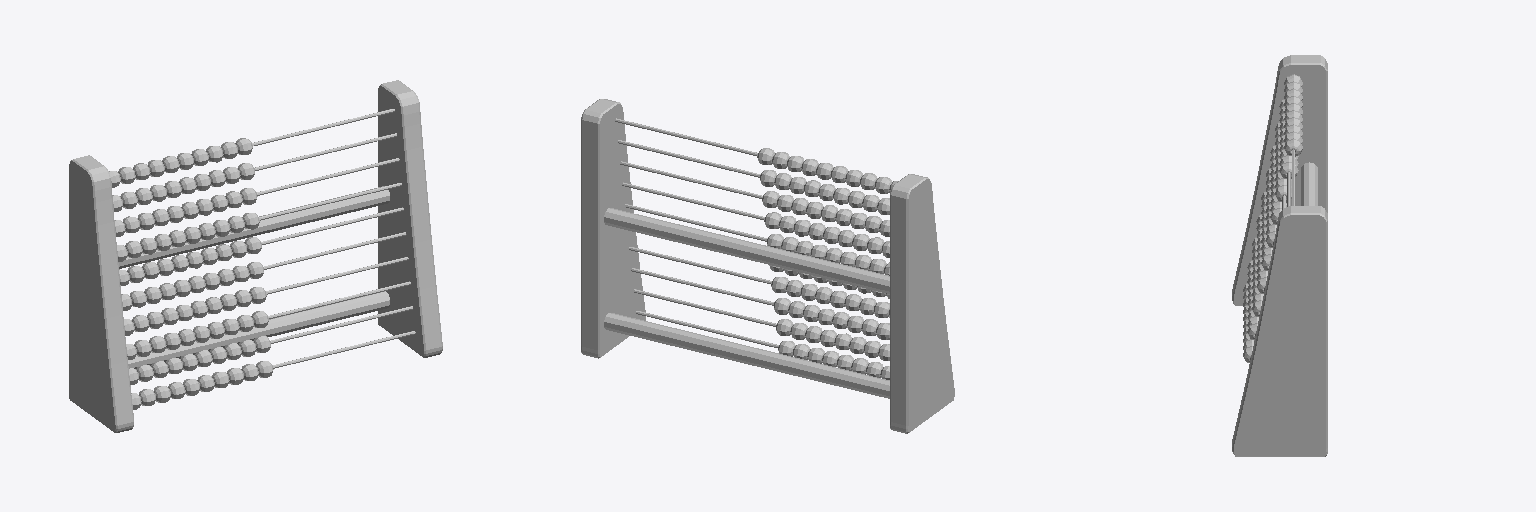
File: Abacus.obj
The picture shows the model from 3 angles: view 1: azimuth 30°, elevation 25°; view 2: azimuth 150°, elevation 25°; view 3: azimuth 270°, elevation 25°; orthographic projection.
Parts seen in each view (by area): view 1: Abacus_grp L_side_geo, Abacus_grp R_side_geo, Abacus_grp Wood_1_geo, Abacus_grp Wood_2_geo, Abacus_grp Line_3_geo Row_3_grp, Abacus_grp Line_4_geo Row_4_grp, Abacus_grp Line_2_geo Row_2_grp, Abacus_grp Line_6_geo Row_6_grp, Abacus_grp Line_1_geo, Abacus_grp Line_8_geo Row_8_grp, Abacus_grp Line_10_geo Row_10_grp, Abacus_grp Line_5_geo Row_5_grp (+2 smaller); view 2: Abacus_grp L_side_geo, Abacus_grp R_side_geo, Abacus_grp Wood_2_geo, Abacus_grp Wood_1_geo, Abacus_grp Line_8_geo Row_8_grp, Abacus_grp Line_1_geo, Abacus_grp Line_4_geo Row_7_grp, Abacus_grp Line_9_geo Row_9_grp, Abacus_grp Line_2_geo Row_2_grp, Abacus_grp Line_3_geo Row_3_grp, Abacus_grp Line_4_geo Row_4_grp, Abacus_grp Line_10_geo Row_10_grp (+1 smaller); view 3: Abacus_grp R_side_geo, Abacus_grp L_side_geo, Abacus_grp Wood_2_geo.
Part boxes in pixels (x1,y1,x2,y2): Abacus_grp L_side_geo: (69, 155, 133, 432); Abacus_grp R_side_geo: (378, 80, 442, 357); Abacus_grp Wood_1_geo: (128, 291, 389, 368); Abacus_grp Wood_2_geo: (118, 186, 389, 268); Abacus_grp Line_3_geo Row_3_grp: (257, 158, 399, 195); Abacus_grp Line_4_geo Row_4_grp: (259, 183, 401, 220); Abacus_grp Line_2_geo Row_2_grp: (255, 133, 396, 170); Abacus_grp Line_6_geo Row_6_grp: (264, 232, 406, 269); Abacus_grp Line_1_geo: (252, 109, 394, 145); Abacus_grp Line_8_geo Row_8_grp: (268, 281, 410, 318); Abacus_grp Line_10_geo Row_10_grp: (273, 331, 415, 368); Abacus_grp Line_5_geo Row_5_grp: (261, 207, 403, 244); Abacus_grp L_side_geo: (890, 174, 954, 433); Abacus_grp R_side_geo: (581, 99, 645, 358); Abacus_grp Wood_2_geo: (604, 208, 889, 293); Abacus_grp Wood_1_geo: (604, 313, 889, 398); Abacus_grp Line_8_geo Row_8_grp: (631, 268, 773, 305); Abacus_grp Line_1_geo: (615, 118, 757, 156); Abacus_grp Line_4_geo Row_7_grp: (629, 247, 771, 283); Abacus_grp Line_9_geo Row_9_grp: (634, 289, 776, 326); Abacus_grp Line_2_geo Row_2_grp: (618, 140, 760, 177); Abacus_grp Line_3_geo Row_3_grp: (620, 161, 762, 198); Abacus_grp Line_4_geo Row_4_grp: (622, 182, 764, 220); Abacus_grp Line_10_geo Row_10_grp: (636, 311, 778, 347); Abacus_grp R_side_geo: (1232, 206, 1327, 456); Abacus_grp L_side_geo: (1232, 55, 1327, 305); Abacus_grp Wood_2_geo: (1301, 162, 1317, 205).
Bounding box in the file's own units: 31.71 × 22.51 × 8.